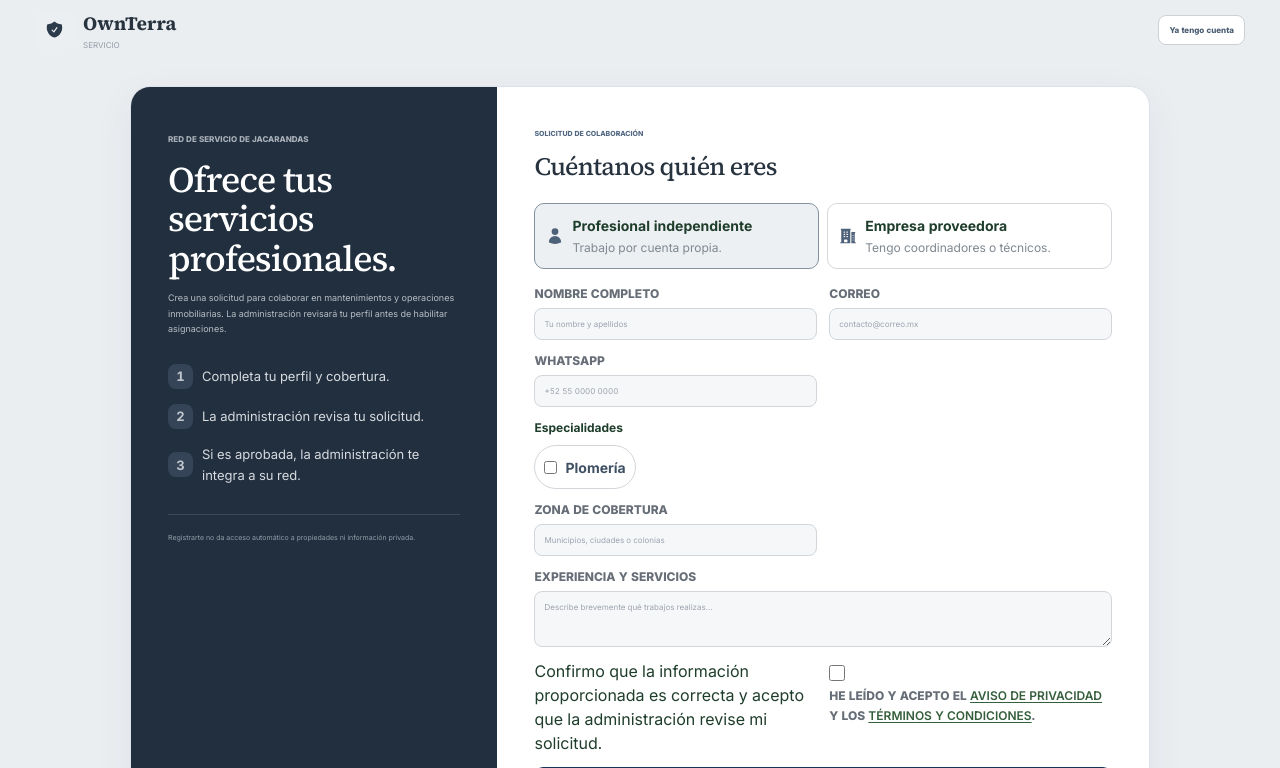
Test case: Inscripción pública de proveedores › conserva la captura ante un fallo del backend y permite reenviar
Type "  Juan Pérez  " into the field with placeholder "Tu nombre y apellidos" at (676, 324), box [534,308,817,340]
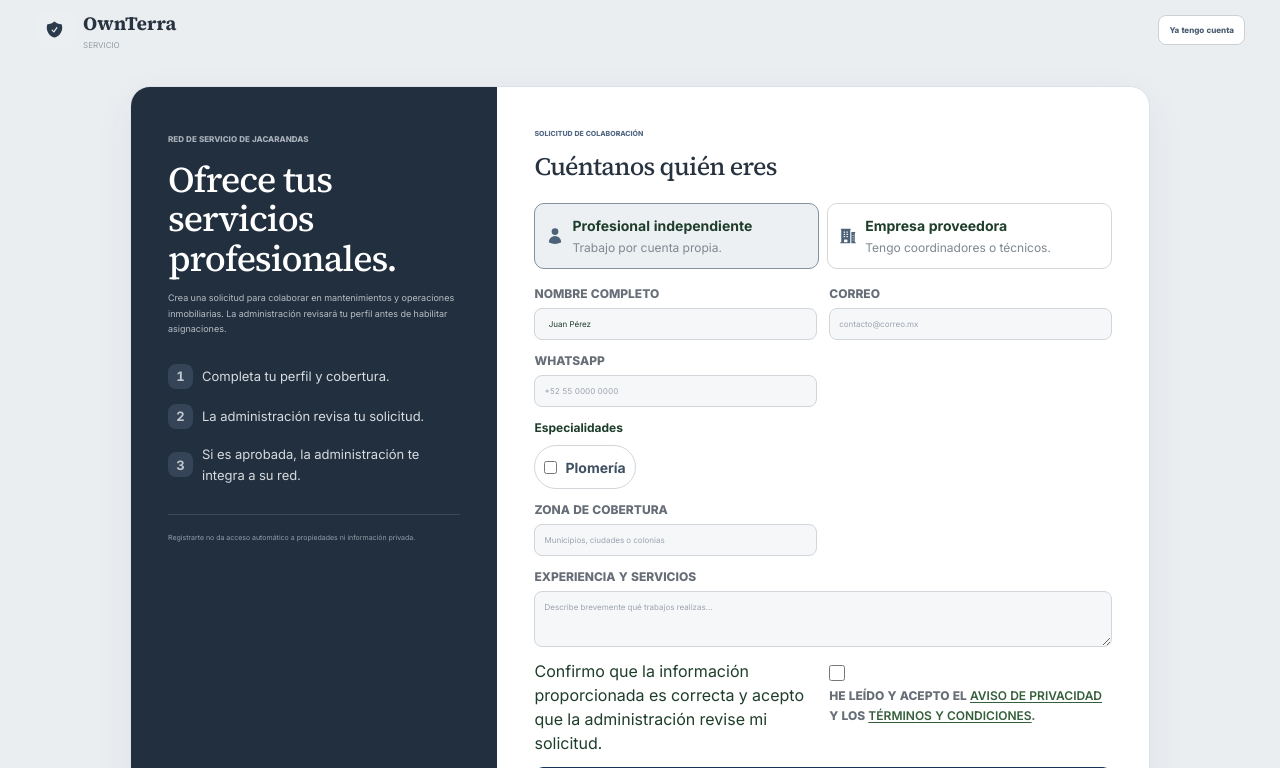
Type "juan@example.com" into the field with placeholder "contacto@correo.mx" at (971, 324), box [829,308,1112,340]
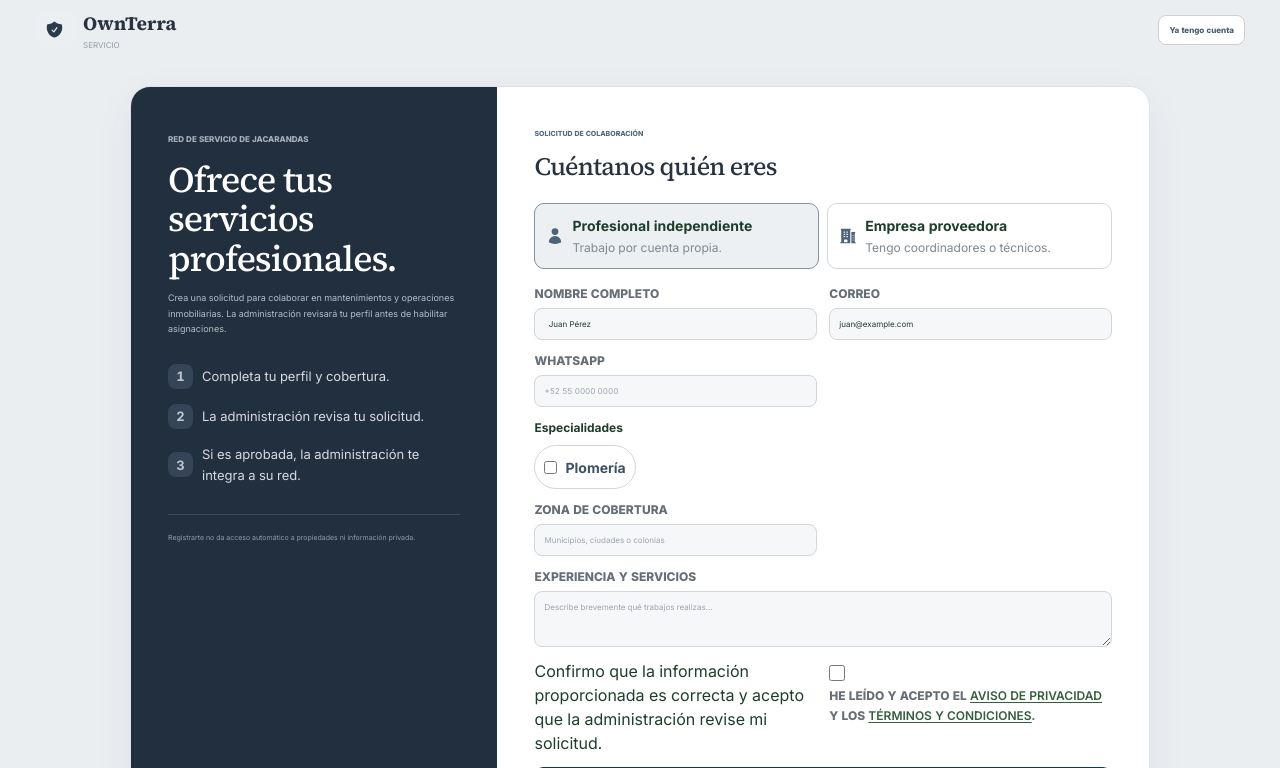
Type " +525500000000 " into the field with placeholder "+52 55 0000 0000" at (676, 391), box [534,375,817,407]
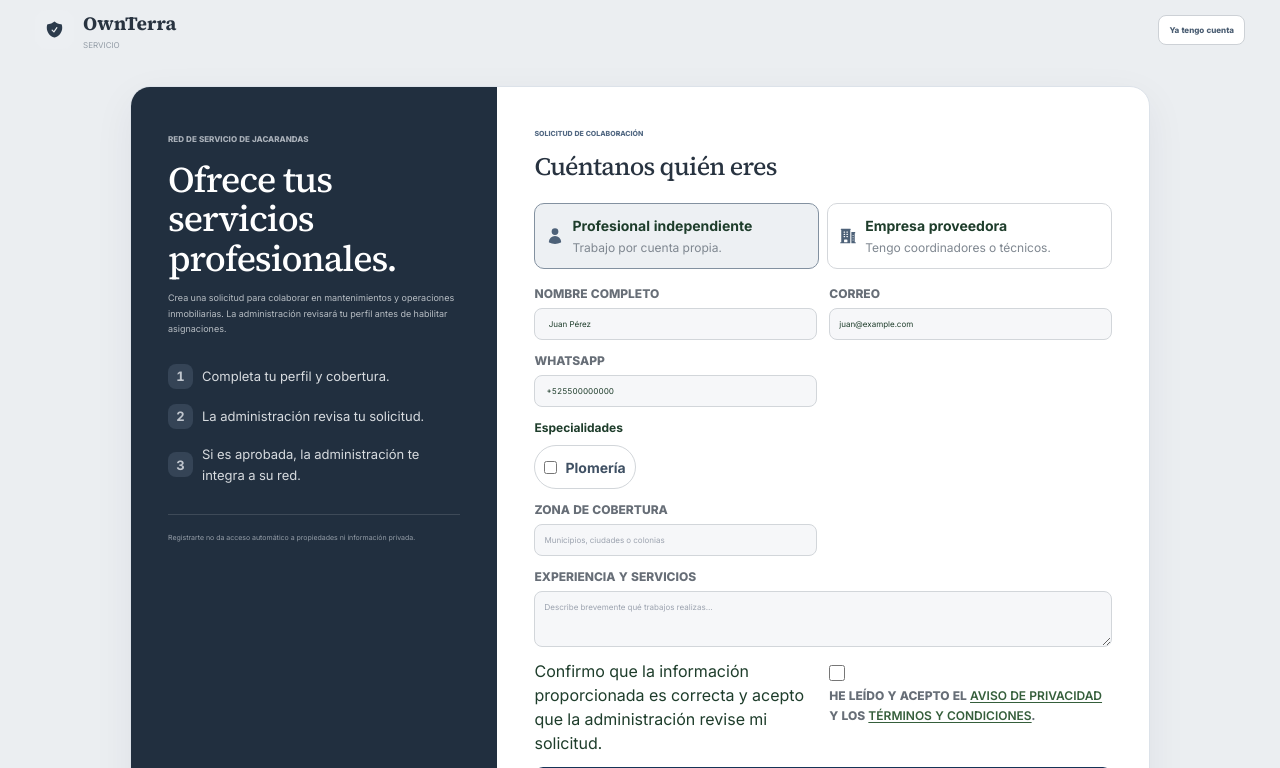
Click the checkbox labelled "He leído y acepto" at (837, 673), box [829,665,845,681]
(page scrolled)
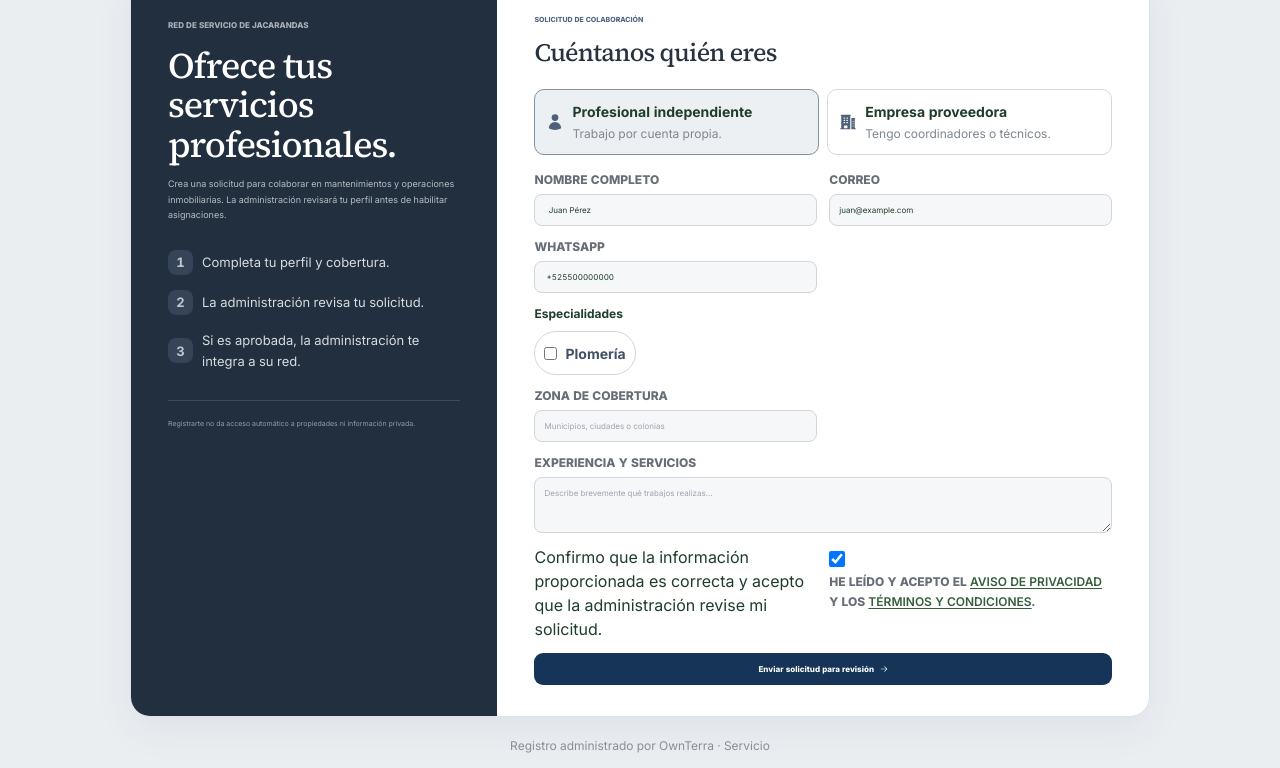
Click the button "Enviar solicitud para revisión" at (823, 669), box [534,653,1112,685]
(page scrolled)
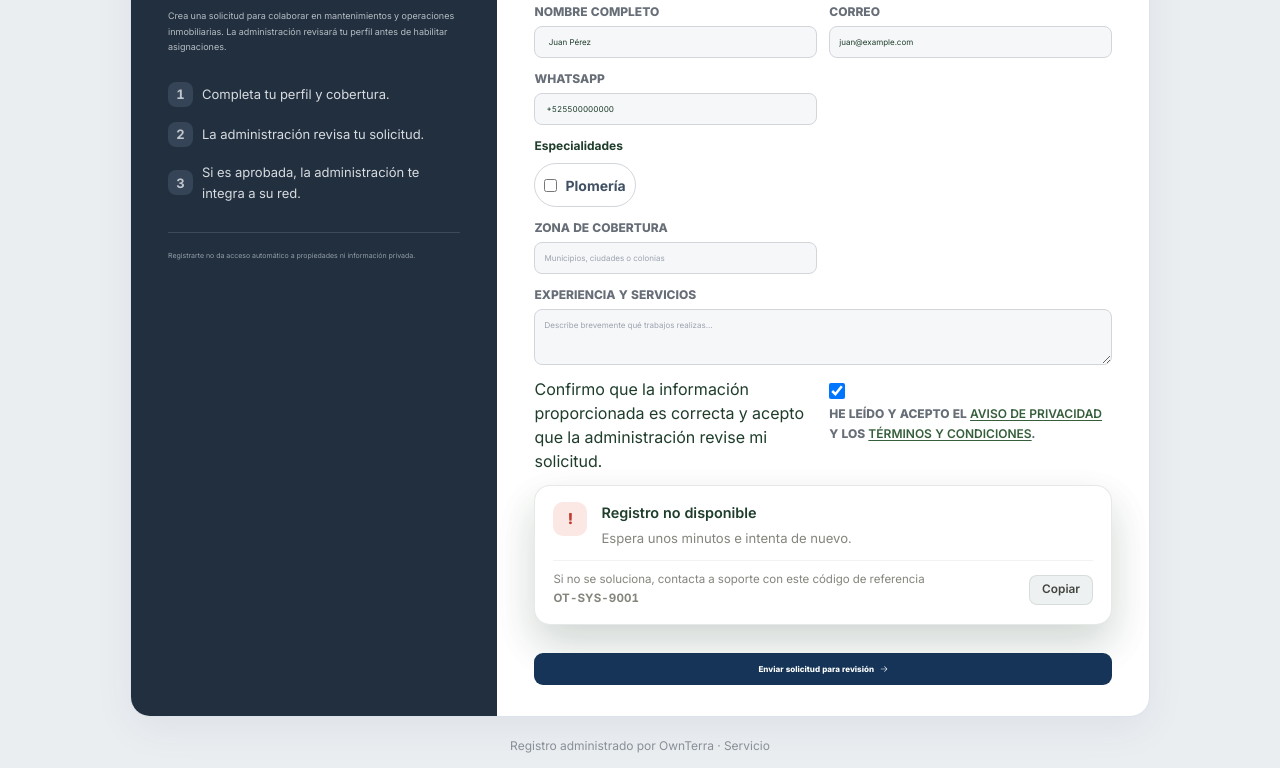
Expected: the message shows "Registro no disponible", [602,504,757,521]
Click the button "Enviar solicitud para revisión" at (823, 669), box [534,653,1112,685]
(page scrolled)
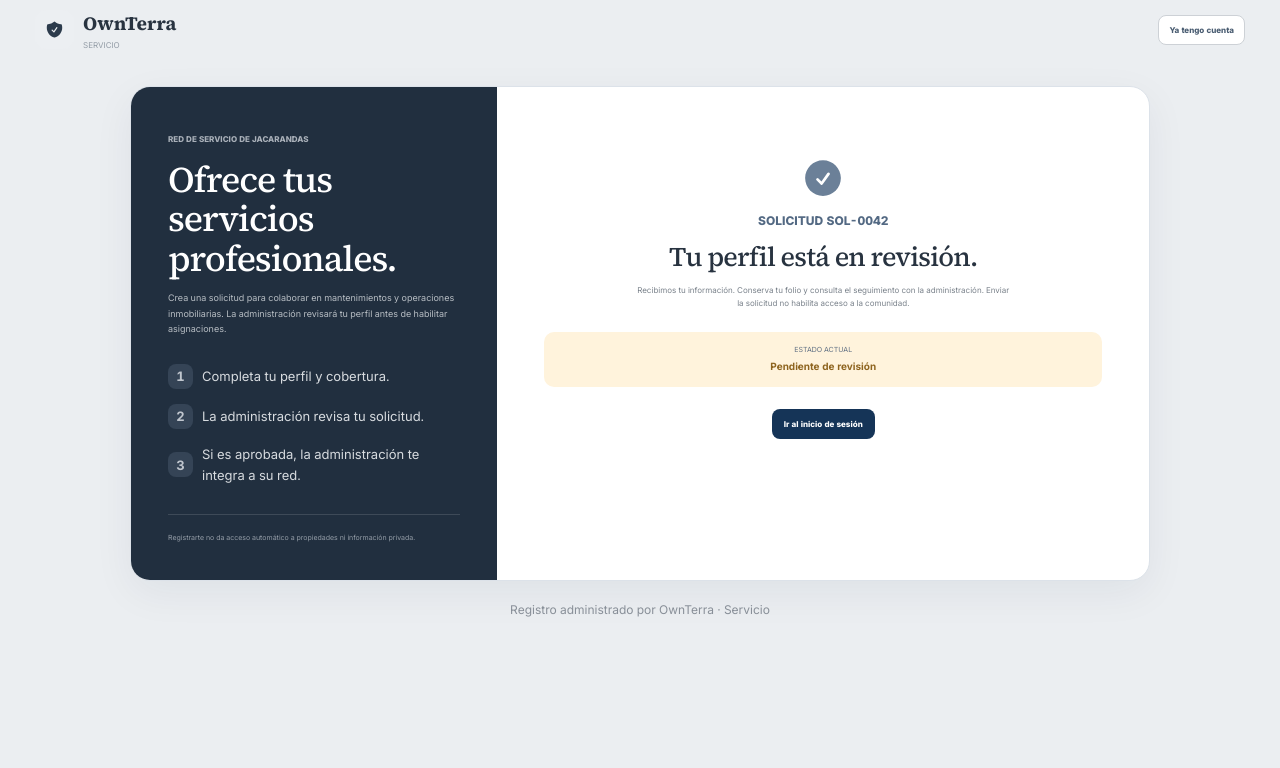
Expected: the text "Solicitud SOL-0042" is shown, [758,212,888,230]
